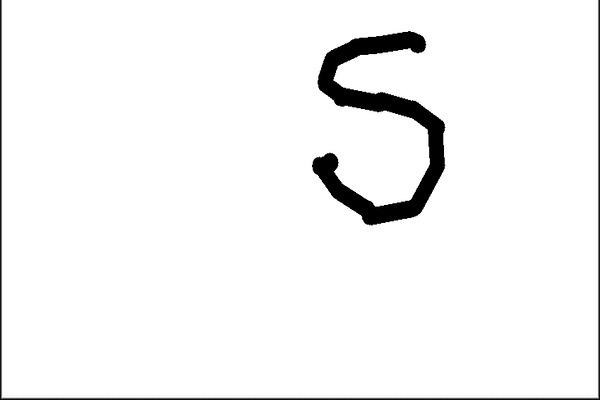S: (296, 24, 454, 221)
